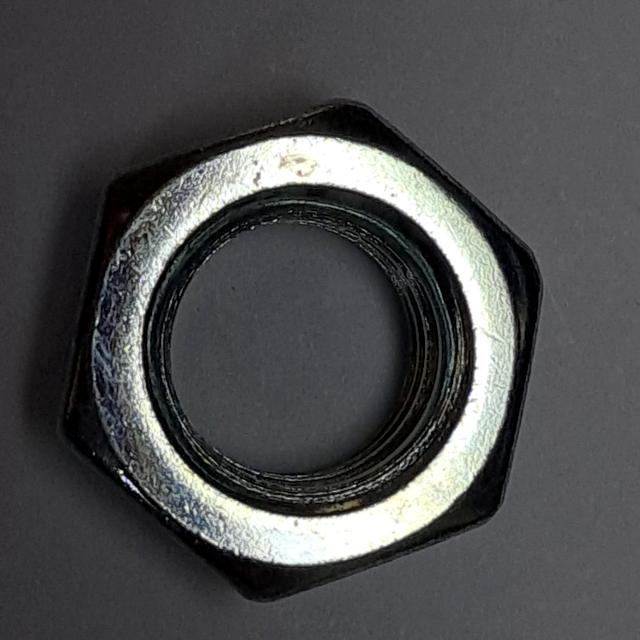Excellent: (42, 81, 556, 617)
